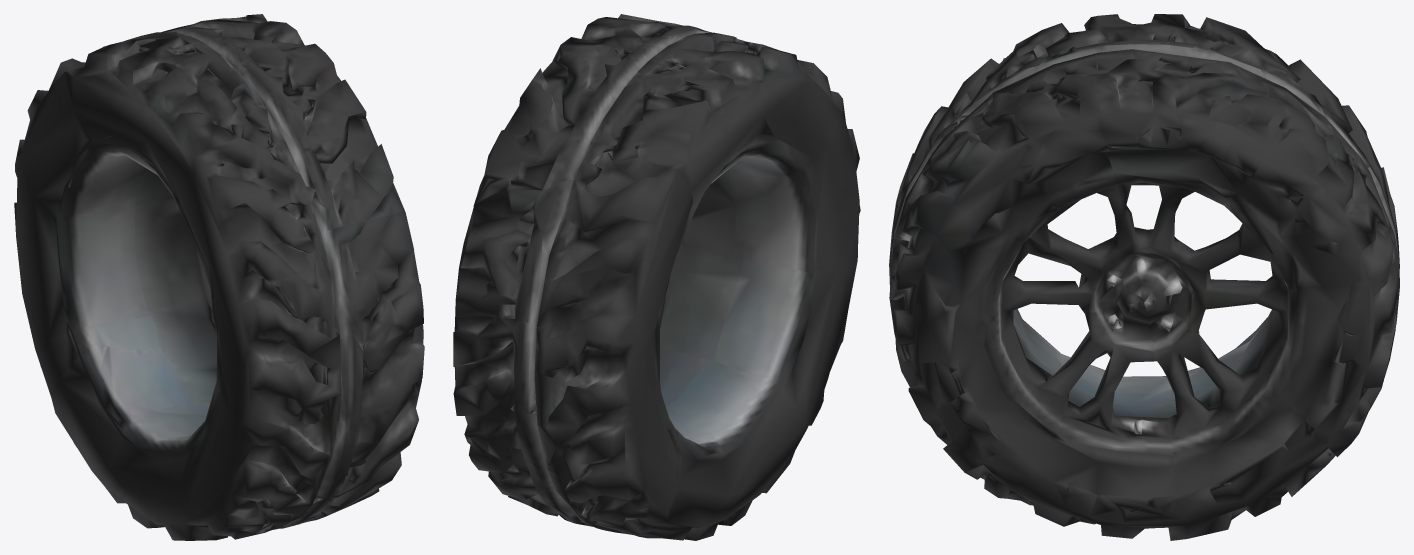
The model's file is rally-wheel.glb.
3 renders of one model, left to right at view 1: azimuth 30°, elevation 25°; view 2: azimuth 150°, elevation 25°; view 3: azimuth 270°, elevation 25°, orthographic.
Visible parts, largest first — view 1: tripo_node_78adb9c5-a032-49bf-9ea5-b02bba938e87; view 2: tripo_node_78adb9c5-a032-49bf-9ea5-b02bba938e87; view 3: tripo_node_78adb9c5-a032-49bf-9ea5-b02bba938e87.
Part boxes in pixels (bbox=[...]): tripo_node_78adb9c5-a032-49bf-9ea5-b02bba938e87: bbox=[14, 14, 424, 540]; tripo_node_78adb9c5-a032-49bf-9ea5-b02bba938e87: bbox=[453, 14, 860, 540]; tripo_node_78adb9c5-a032-49bf-9ea5-b02bba938e87: bbox=[889, 14, 1399, 540].
Size of the model in its own units: 0.4207 by 0.9981 by 0.9989.
1 material, 1 textured.
